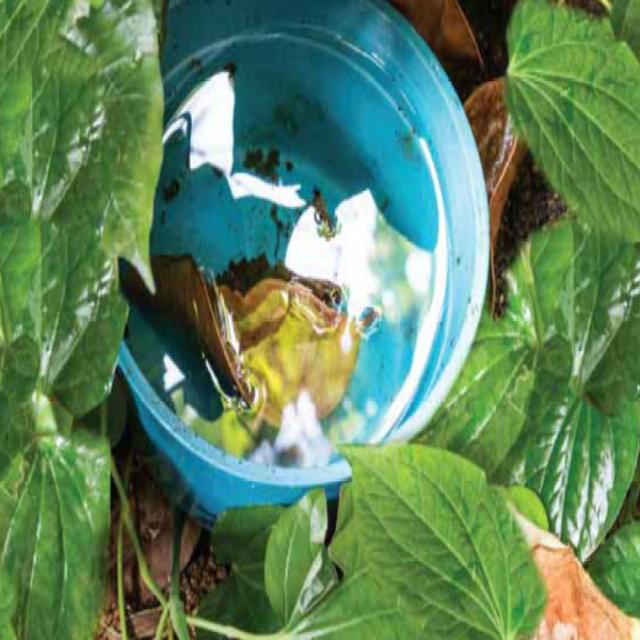Breeding Place: (114, 0, 509, 549)
